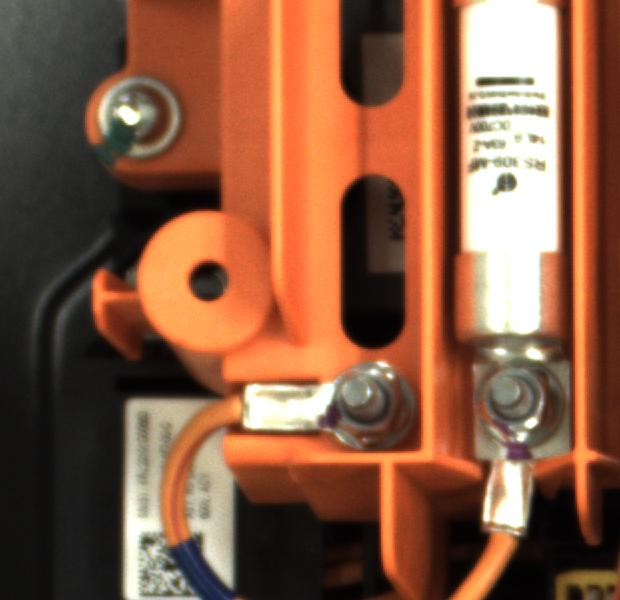screw_m: (87, 67, 196, 168)
screw_s: (470, 353, 572, 449), (319, 365, 415, 447)
